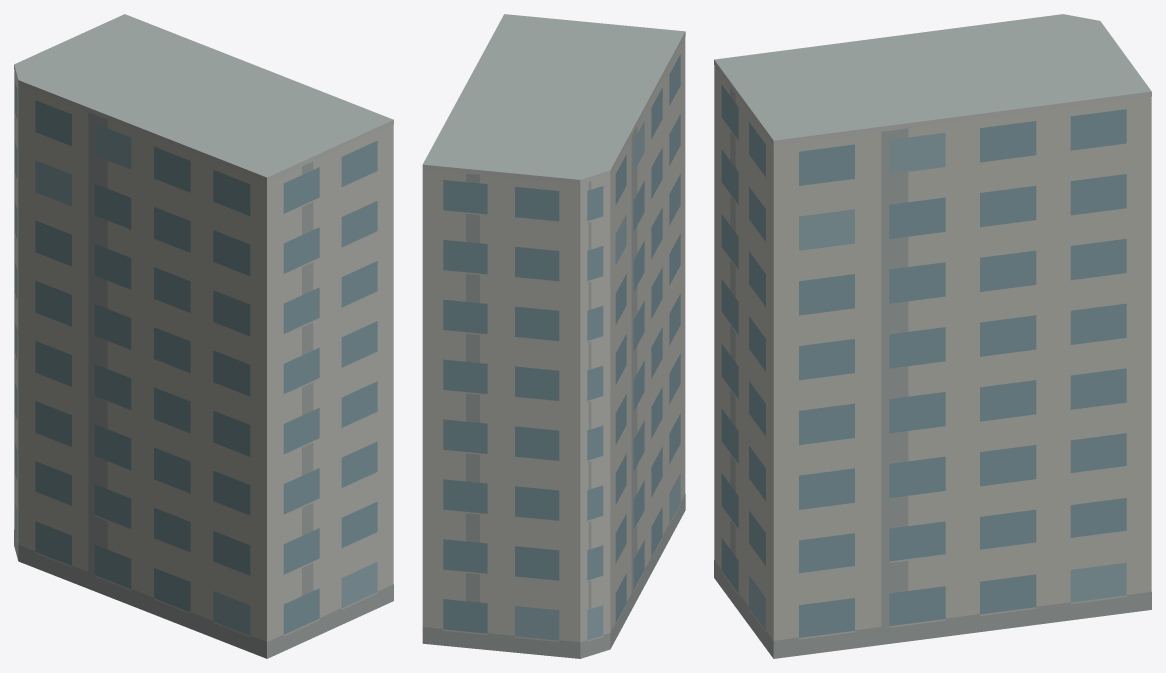
File: survey-upis-32565329.glb
3 renders of one model, left to right at view 1: azimuth 30°, elevation 25°; view 2: azimuth 150°, elevation 25°; view 3: azimuth 270°, elevation 25°, orthographic. The views are drawn at different scales.
Parts seen in each view (by area): view 1: survey-upis-32565329.tmp; view 2: survey-upis-32565329.tmp; view 3: survey-upis-32565329.tmp.
Part boxes in pixels (x1,y1,x2,y2): survey-upis-32565329.tmp: (14,14,393,658); survey-upis-32565329.tmp: (422,14,685,658); survey-upis-32565329.tmp: (714,14,1151,658).
Bounding box in the file's own units: 12.79 × 24.4 × 18.69.
